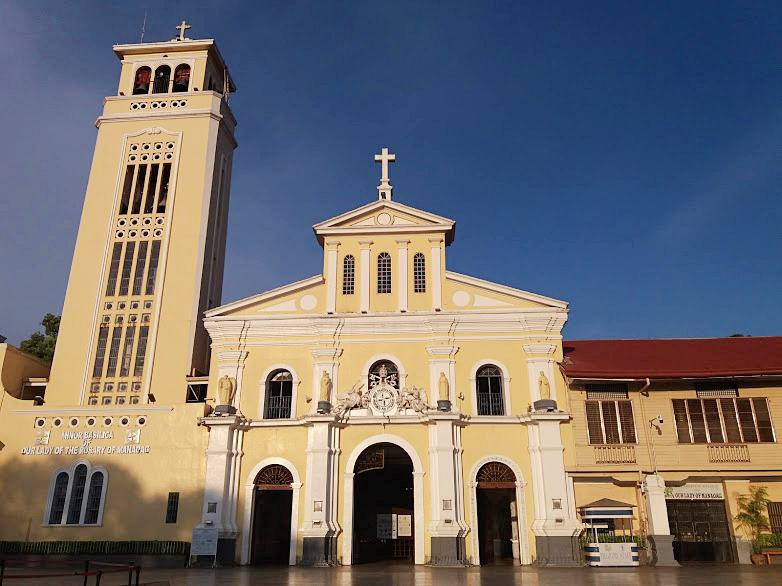manaoag_church_manaoag_pangasinan: (48, 17, 570, 565)
